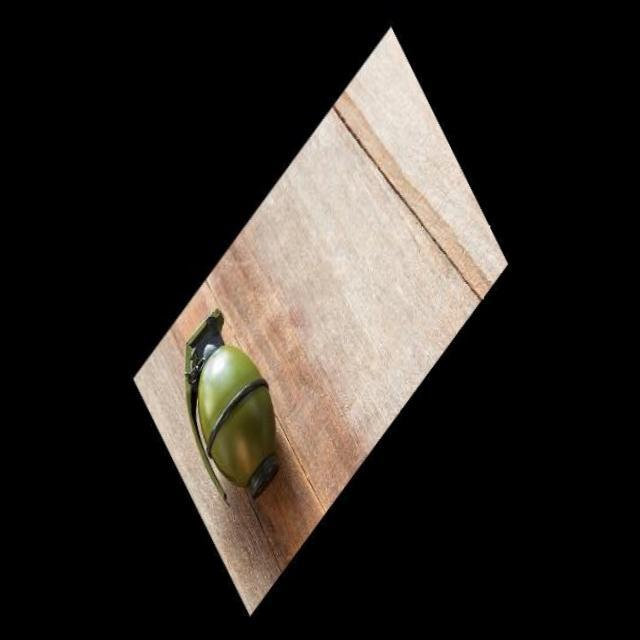grenade: (167, 291, 301, 526)
